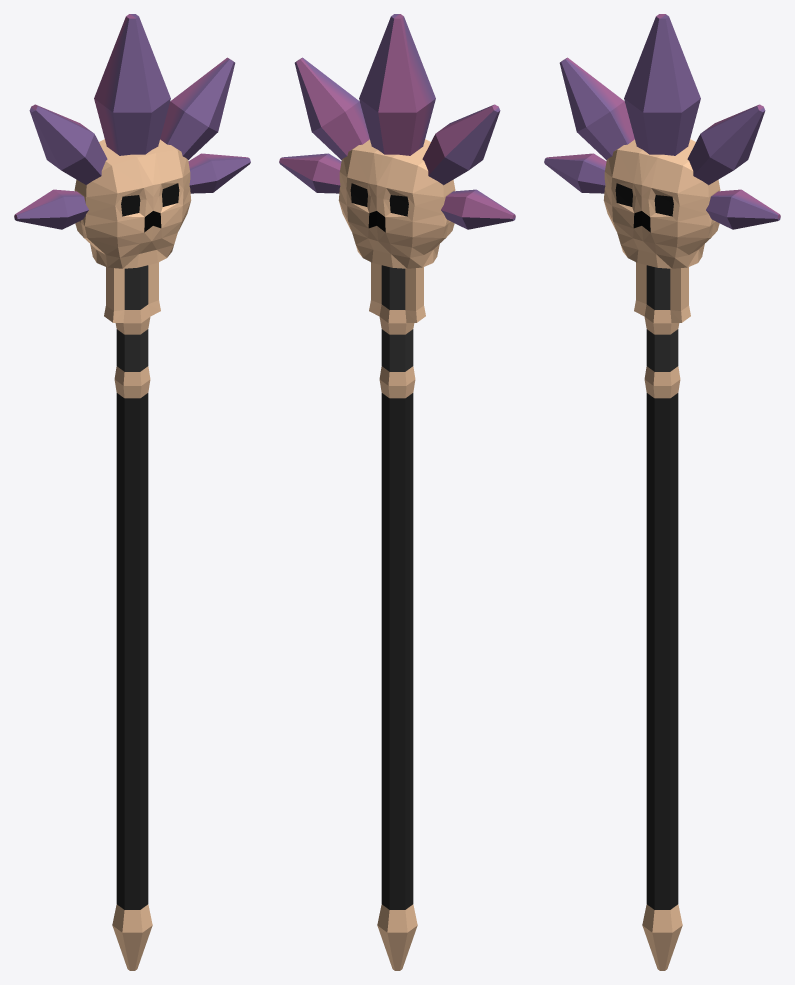
Rendered from staff_bone.glb.
3 views of the same model, side by side, from view 1: azimuth 30°, elevation 25°; view 2: azimuth 150°, elevation 25°; view 3: azimuth 330°, elevation 25° (orthographic).
Visible parts, largest first — view 1: Staff, Skull, Cristal.001, Cristal, Cristal.002; view 2: Staff, Skull, Cristal.001, Cristal, Cristal.002; view 3: Staff, Skull, Cristal.001, Cristal, Cristal.002.
Boxes of the visible parts, x1,y1,x2,y2 form: Staff: (104, 262, 160, 970); Skull: (74, 139, 191, 268); Cristal.001: (29, 57, 235, 185); Cristal: (94, 14, 170, 155); Cristal.002: (14, 153, 250, 229); Staff: (369, 262, 425, 970); Skull: (338, 139, 455, 268); Cristal.001: (294, 57, 500, 185); Cristal: (359, 14, 435, 155); Cristal.002: (279, 153, 515, 229); Staff: (634, 262, 690, 970); Skull: (603, 139, 720, 268); Cristal.001: (559, 57, 765, 185); Cristal: (624, 14, 700, 155); Cristal.002: (544, 153, 780, 229).
Size of the model in its own units: 0.6128 by 2.39 by 0.1895.
Materials: 1 (1 with a texture image).
